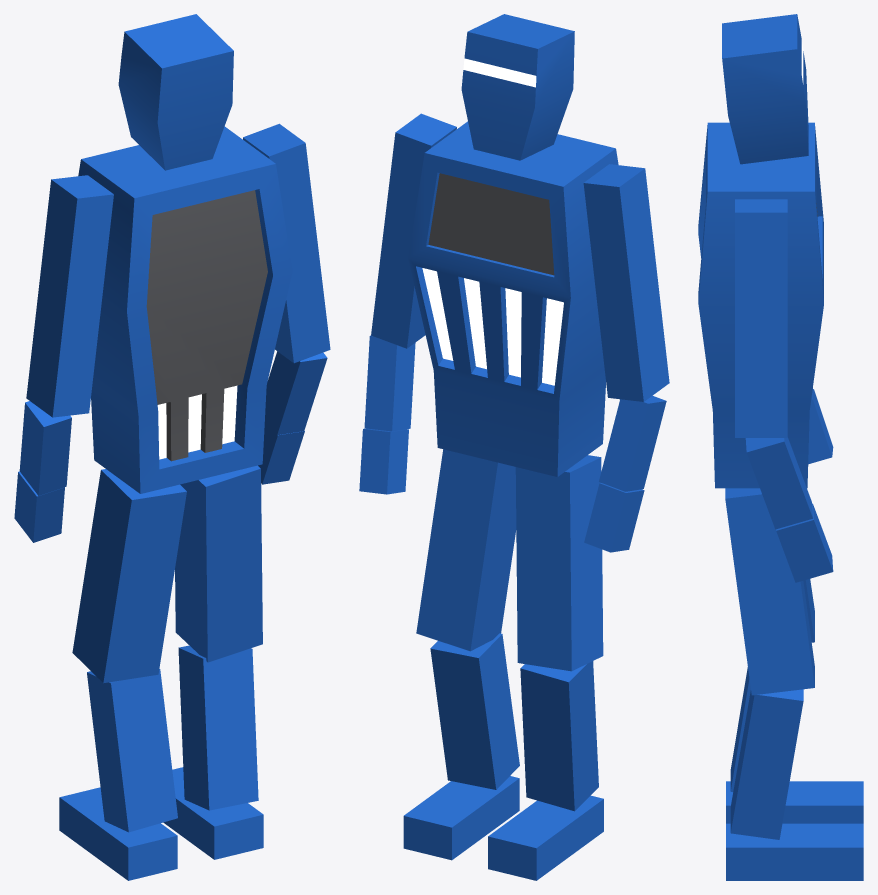
Rendered from humanoid2.glb.
3 renders of one model, left to right at view 1: azimuth 30°, elevation 25°; view 2: azimuth 150°, elevation 25°; view 3: azimuth 270°, elevation 25°, orthographic.
Visible parts, largest first — view 1: Humanoid._blue; view 2: Humanoid._blue; view 3: Humanoid._blue.
Boxes of the visible parts, left/top/right/bottom form: Humanoid._blue: left=14, top=14, right=330, bottom=880; Humanoid._blue: left=359, top=14, right=669, bottom=880; Humanoid._blue: left=698, top=14, right=863, bottom=880.
Bounding box in the file's own units: 0.6415 × 1.76 × 0.3241.
